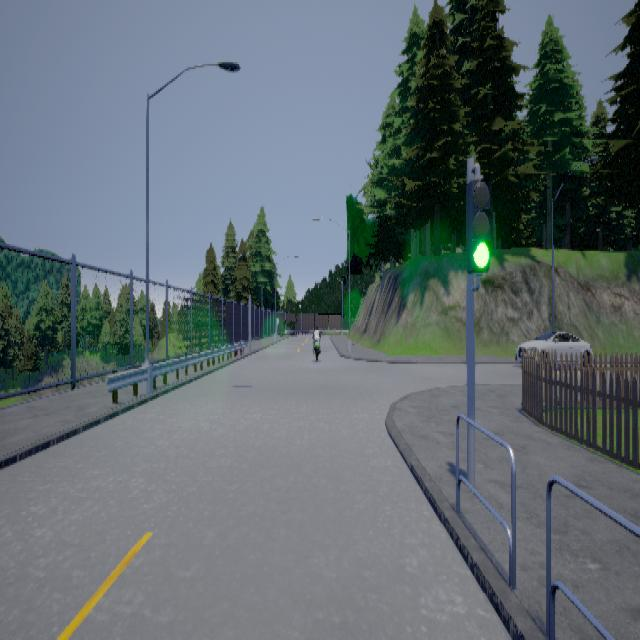green_light: (465, 162, 491, 291)
motobike: (312, 322, 322, 364)
vehicle: (514, 330, 593, 366)
